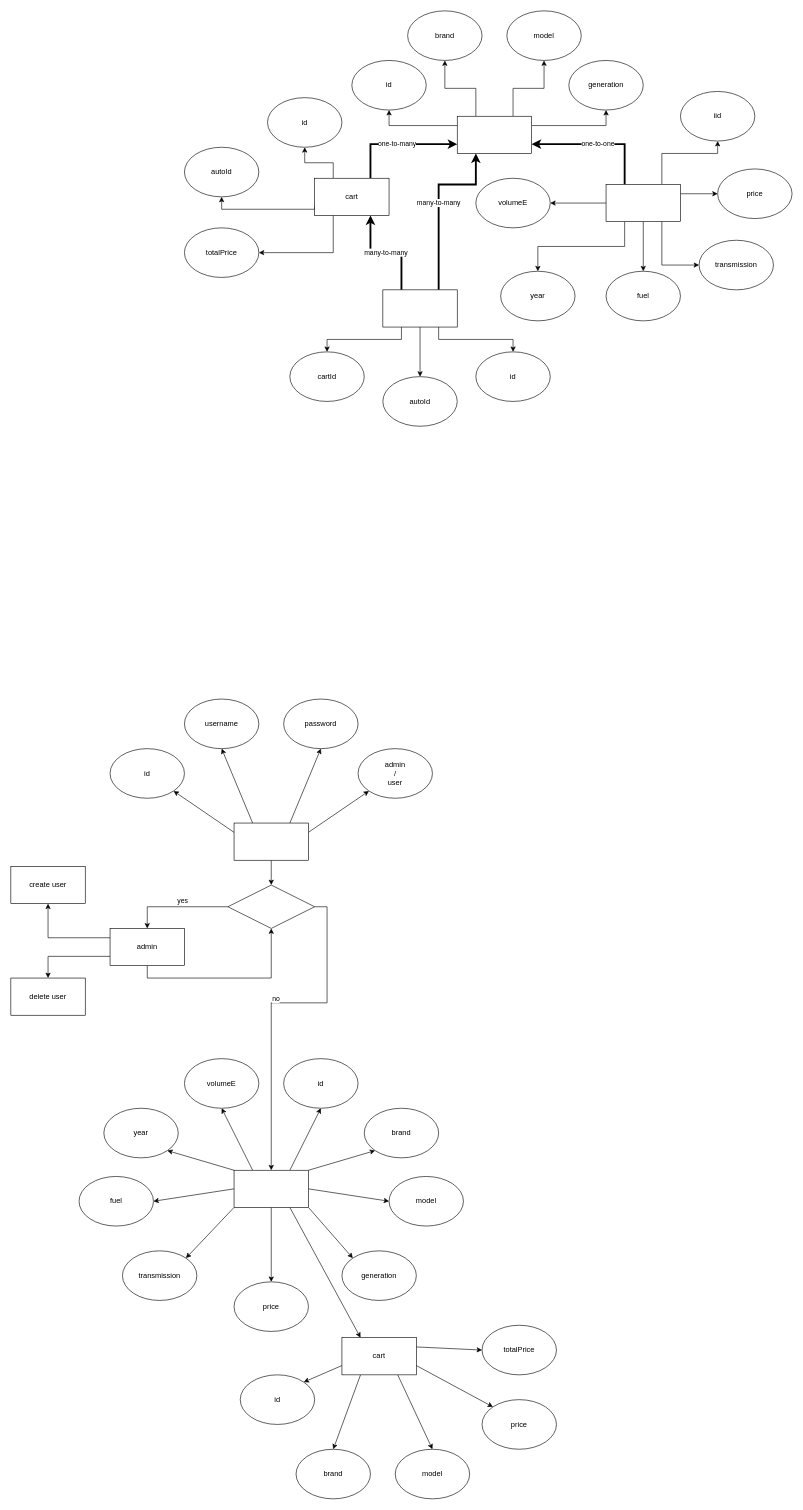
The diagram is 803 pixels wide and 1510 high, and some of its shapes have lost their labels. The shapes that lost their labels are listed below. From the top down, each one's box as (x1, y1, x2, y2) in pixels, then its label:
(457, 116, 532, 153): auto
(605, 184, 680, 222): detail
(382, 289, 457, 327): account
(233, 822, 308, 860): authorithation
(227, 884, 315, 928): admin ?
(233, 1170, 308, 1207): autoStore
